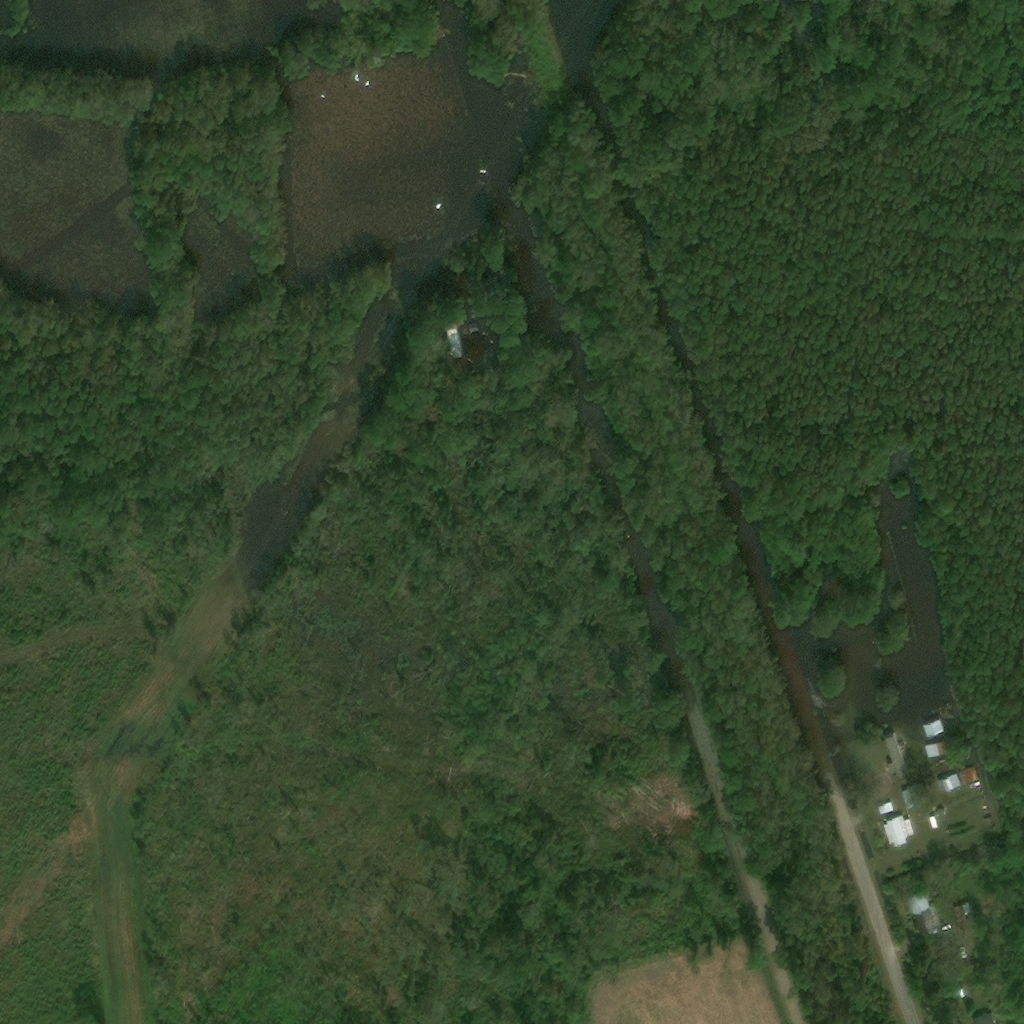major_damage: (881, 731, 911, 781), (443, 314, 463, 353), (938, 773, 960, 792), (959, 766, 980, 785), (922, 718, 944, 736), (295, 0, 312, 19), (925, 742, 940, 758), (427, 341, 437, 355), (275, 11, 285, 21), (469, 323, 479, 333)
no_damage: (906, 889, 945, 932), (883, 815, 915, 844), (900, 784, 929, 811), (970, 1009, 996, 1023), (877, 800, 893, 814), (957, 900, 971, 916), (934, 807, 947, 821)
